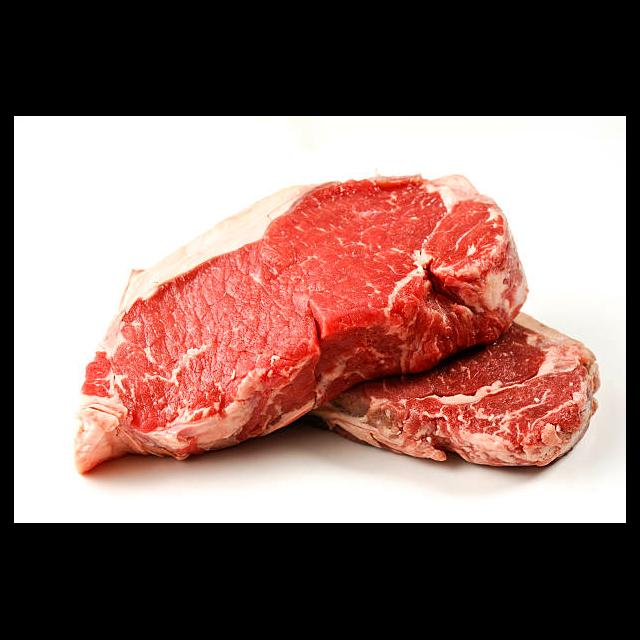beef: (69, 173, 529, 477), (308, 312, 603, 471)
